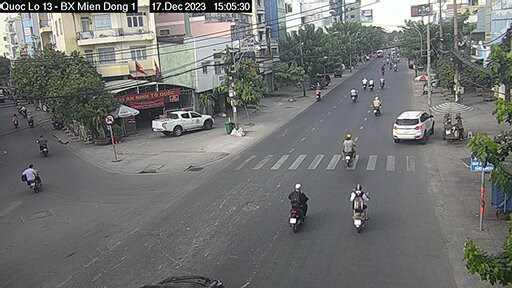car: (140, 106, 221, 136), (388, 101, 431, 152), (338, 136, 363, 165)
motorbike: (339, 185, 370, 235), (284, 180, 313, 228), (15, 163, 45, 188)
